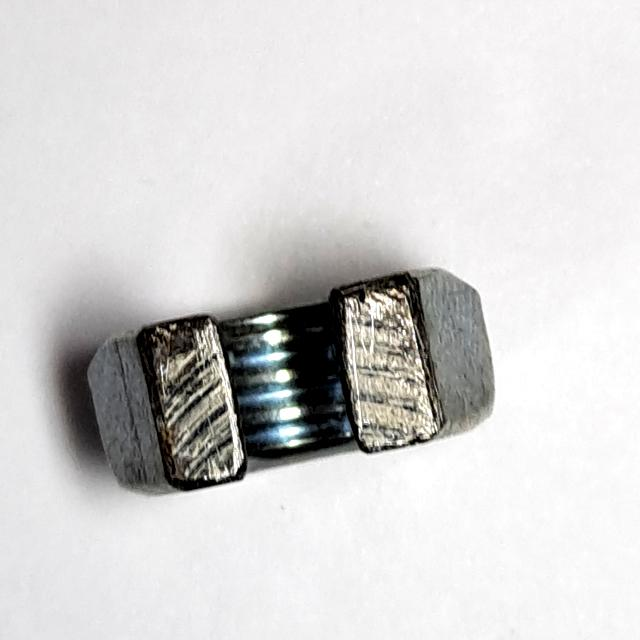Side-Fracture: (72, 250, 514, 506)
